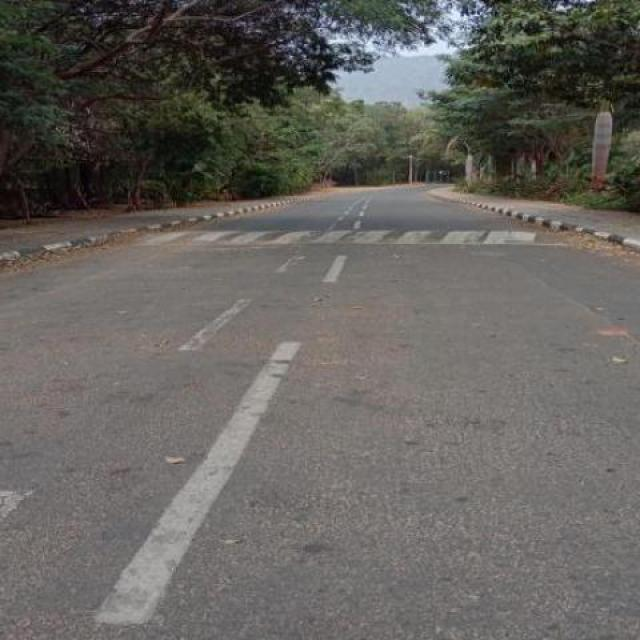Speed Bump: (133, 228, 583, 247)
